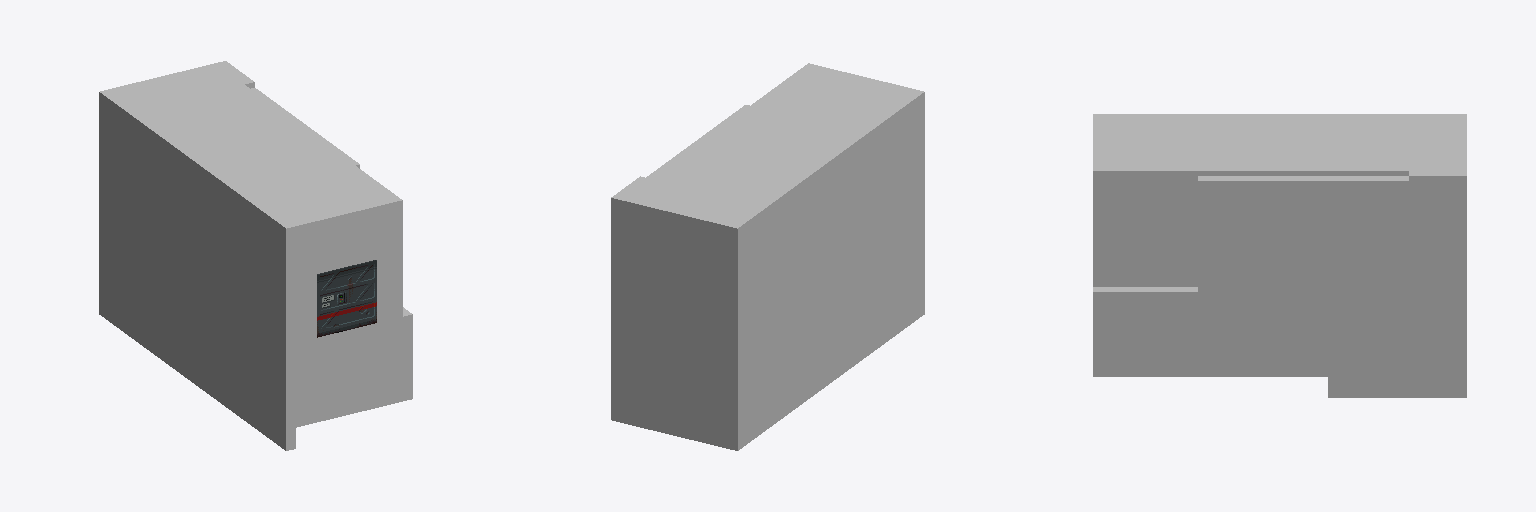
The picture shows the model from 3 angles: view 1: azimuth 30°, elevation 25°; view 2: azimuth 150°, elevation 25°; view 3: azimuth 270°, elevation 25°; orthographic projection.
Visible parts, largest first — view 1: entity0_brush5, entity0_brush4, entity0_brush12, entity0_brush8, entity0_brush3, entity0_brush0, entity0_brush1, entity0_brush2, entity0_brush13, entity0_brush10; view 2: entity0_brush8, entity0_brush5, entity0_brush4, entity0_brush13, entity0_brush12; view 3: entity0_brush6, entity0_brush4, entity0_brush11, entity0_brush8, entity0_brush10, entity0_brush12, entity0_brush13.
Boxes of the visible parts, x1=… form: entity0_brush5: x1=125, y1=122, x2=295, y2=450; entity0_brush4: x1=125, y1=83, x2=402, y2=238; entity0_brush12: x1=222, y1=307, x2=412, y2=429; entity0_brush8: x1=99, y1=61, x2=254, y2=311; entity0_brush3: x1=296, y1=212, x2=397, y2=278; entity0_brush0: x1=317, y1=260, x2=376, y2=337; entity0_brush1: x1=296, y1=274, x2=316, y2=342; entity0_brush2: x1=377, y1=255, x2=397, y2=322; entity0_brush13: x1=99, y1=293, x2=168, y2=352; entity0_brush10: x1=398, y1=211, x2=402, y2=317; entity0_brush8: x1=611, y1=176, x2=766, y2=429; entity0_brush5: x1=764, y1=103, x2=924, y2=417; entity0_brush4: x1=648, y1=63, x2=924, y2=219; entity0_brush13: x1=611, y1=380, x2=806, y2=450; entity0_brush12: x1=861, y1=209, x2=924, y2=338; entity0_brush6: x1=1198, y1=176, x2=1431, y2=312; entity0_brush4: x1=1093, y1=114, x2=1414, y2=180; entity0_brush11: x1=1204, y1=313, x2=1425, y2=376; entity0_brush8: x1=1409, y1=114, x2=1466, y2=376; entity0_brush10: x1=1093, y1=181, x2=1197, y2=286; entity0_brush12: x1=1093, y1=287, x2=1221, y2=376; entity0_brush13: x1=1328, y1=377, x2=1466, y2=397.
Bounding box in the file's own units: 200 × 336 × 512.
Materials: 5 (1 with a texture image).